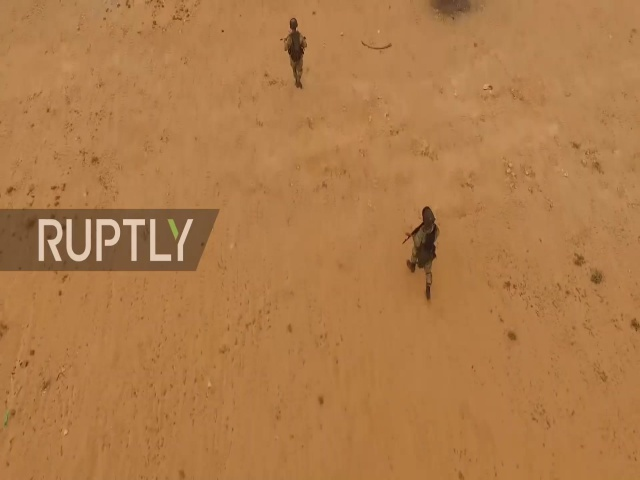person: (402, 204, 440, 302), (280, 17, 308, 90)
